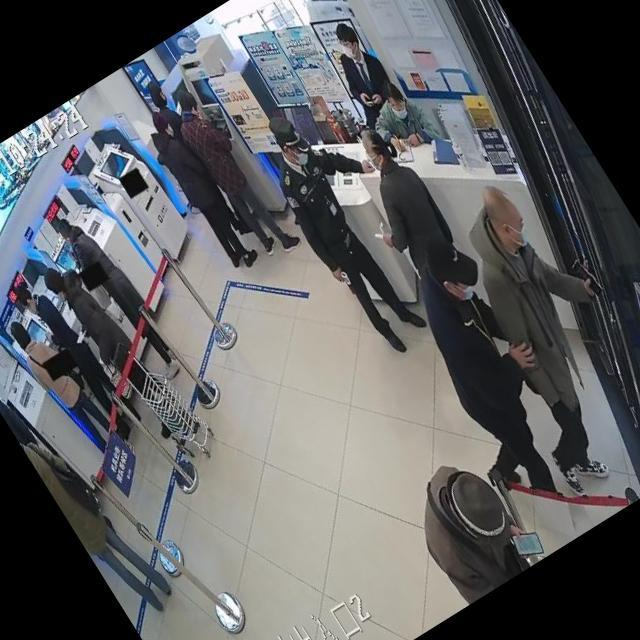person: (411, 163, 640, 500), (373, 221, 610, 524), (242, 85, 466, 362), (7, 395, 179, 628), (40, 250, 186, 448), (161, 77, 303, 267), (49, 202, 188, 390), (12, 266, 151, 452), (51, 203, 188, 390), (392, 446, 542, 608), (330, 120, 469, 288), (137, 105, 261, 276), (4, 306, 124, 464), (312, 17, 411, 136), (360, 73, 440, 163), (142, 77, 198, 150), (0, 375, 46, 462)
